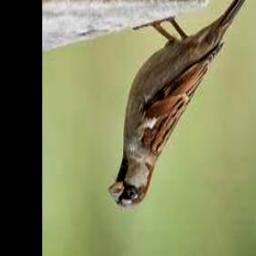Sparrow: (108, 0, 256, 207)
